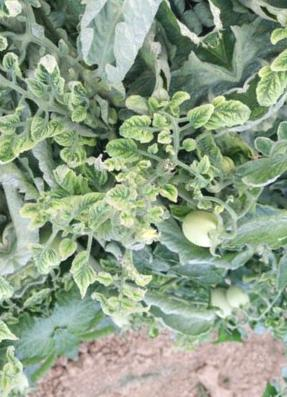Tomato leaf yellow virus: (28, 175, 98, 240), (198, 79, 260, 143), (104, 101, 162, 155), (25, 43, 77, 102), (55, 246, 109, 302), (96, 172, 150, 221), (99, 124, 149, 173), (46, 124, 94, 174), (176, 95, 219, 138), (23, 234, 64, 278), (0, 126, 31, 174), (23, 112, 59, 146)
